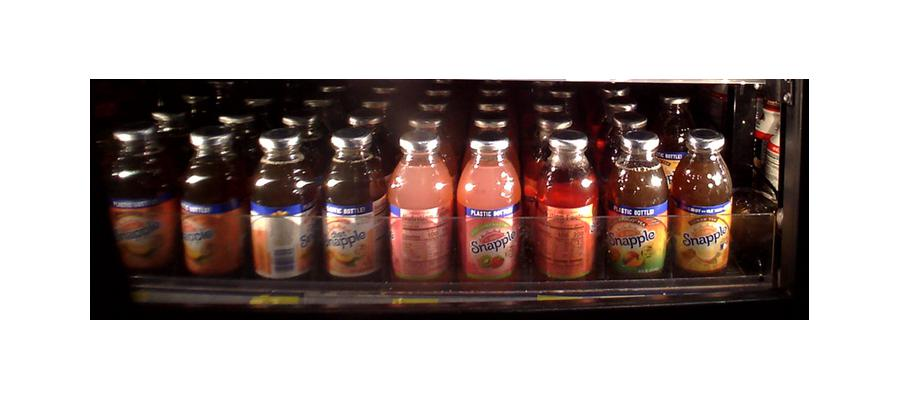bottle: (249, 128, 317, 285), (107, 124, 176, 276), (321, 125, 386, 282), (180, 125, 244, 279), (533, 130, 597, 284), (390, 124, 452, 282), (606, 129, 669, 280), (458, 132, 519, 281), (674, 126, 734, 277)
